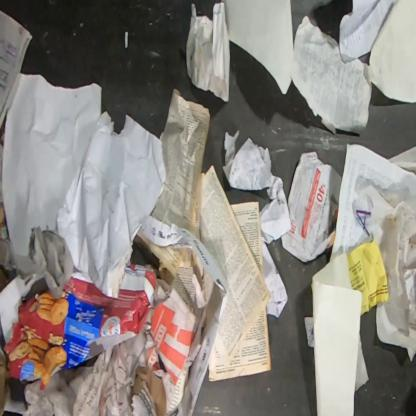cardboard: (4, 262, 156, 391), (146, 289, 198, 384), (132, 364, 167, 415)
soft_plastic: (29, 226, 73, 297), (71, 352, 112, 415)
